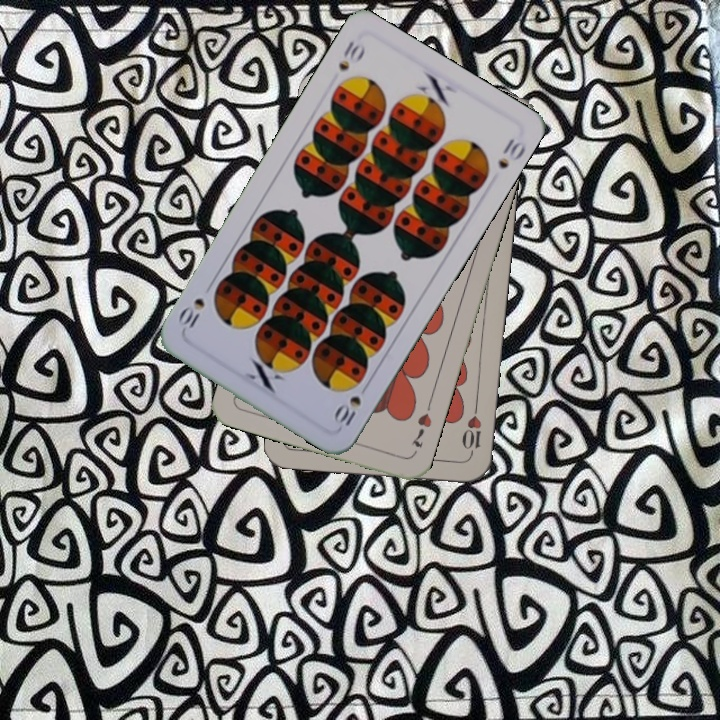H10: (458, 401, 484, 460)
H7: (407, 398, 434, 451)
S10: (329, 378, 372, 431), (334, 36, 368, 74)
